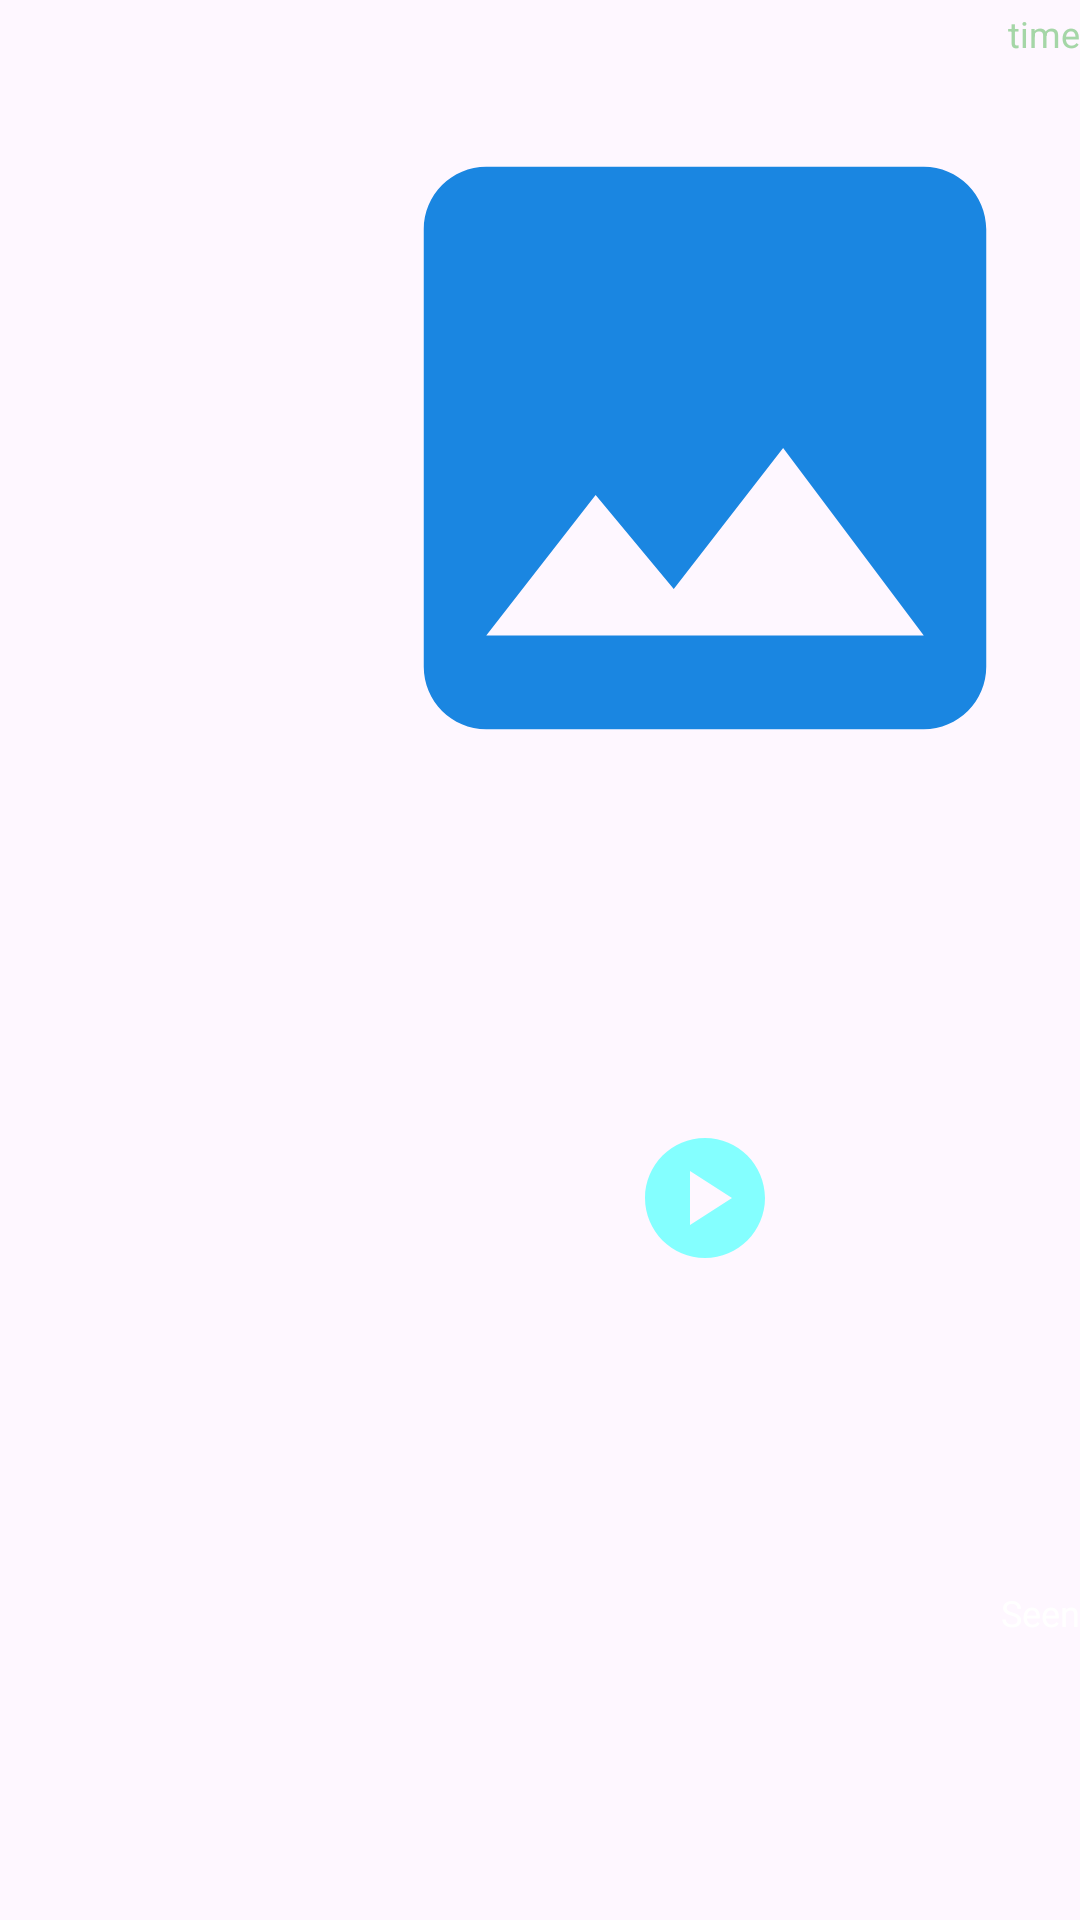

Icons on this 1080*1920 Android screen, each with the point to tap as [x,y]:
Play video: [705,1198]
